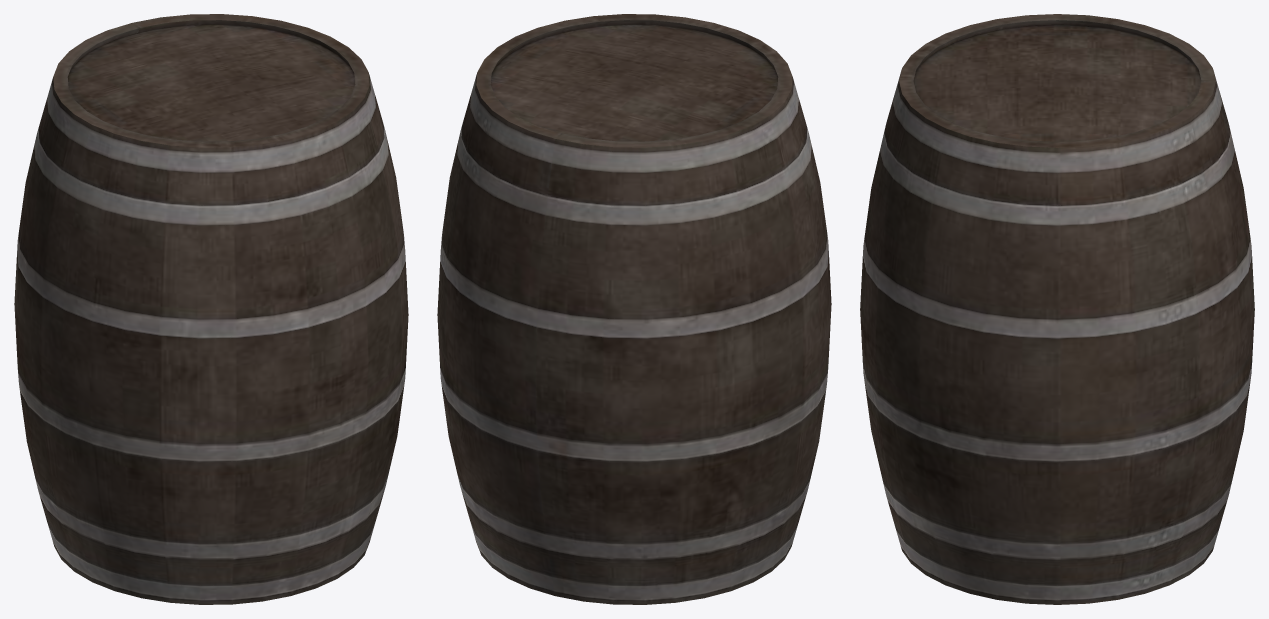
File: barrel.glb
The picture shows the model from 3 angles, left to right: view 1: azimuth 30°, elevation 25°; view 2: azimuth 150°, elevation 25°; view 3: azimuth 270°, elevation 25°; orthographic projection.
Parts seen in each view (by area): view 1: SM_Barrel; view 2: SM_Barrel; view 3: SM_Barrel.
Boxes of the visible parts, x1,y1,x2,y2 form: SM_Barrel: (14, 14, 408, 604); SM_Barrel: (437, 14, 831, 604); SM_Barrel: (860, 14, 1254, 604).
Bounding box in the file's own units: 1.29 × 1.66 × 1.29.
1 material, 1 textured.
